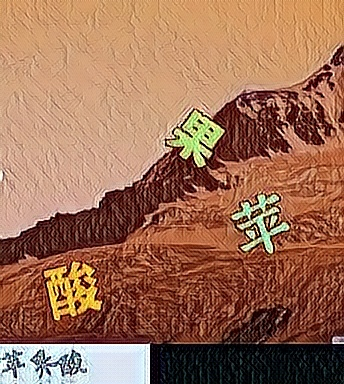B9FB: (162, 106, 224, 170)
C6BB: (229, 192, 291, 256)
CBE1: (41, 256, 103, 320)
